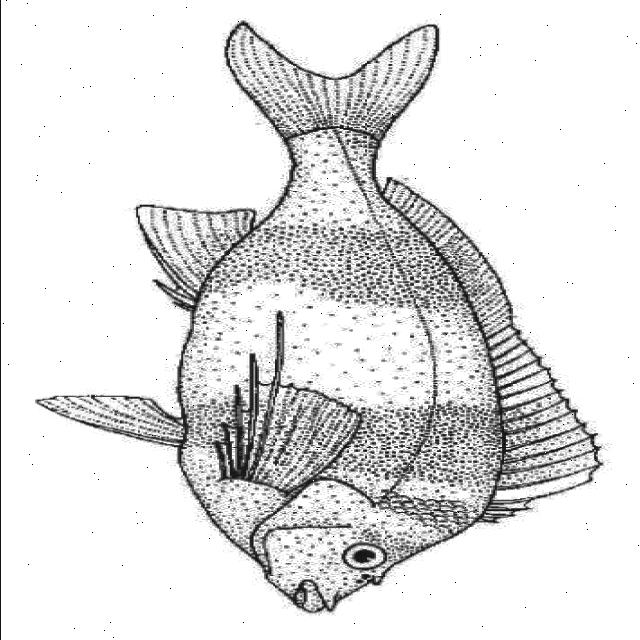fish: (34, 21, 602, 614)
